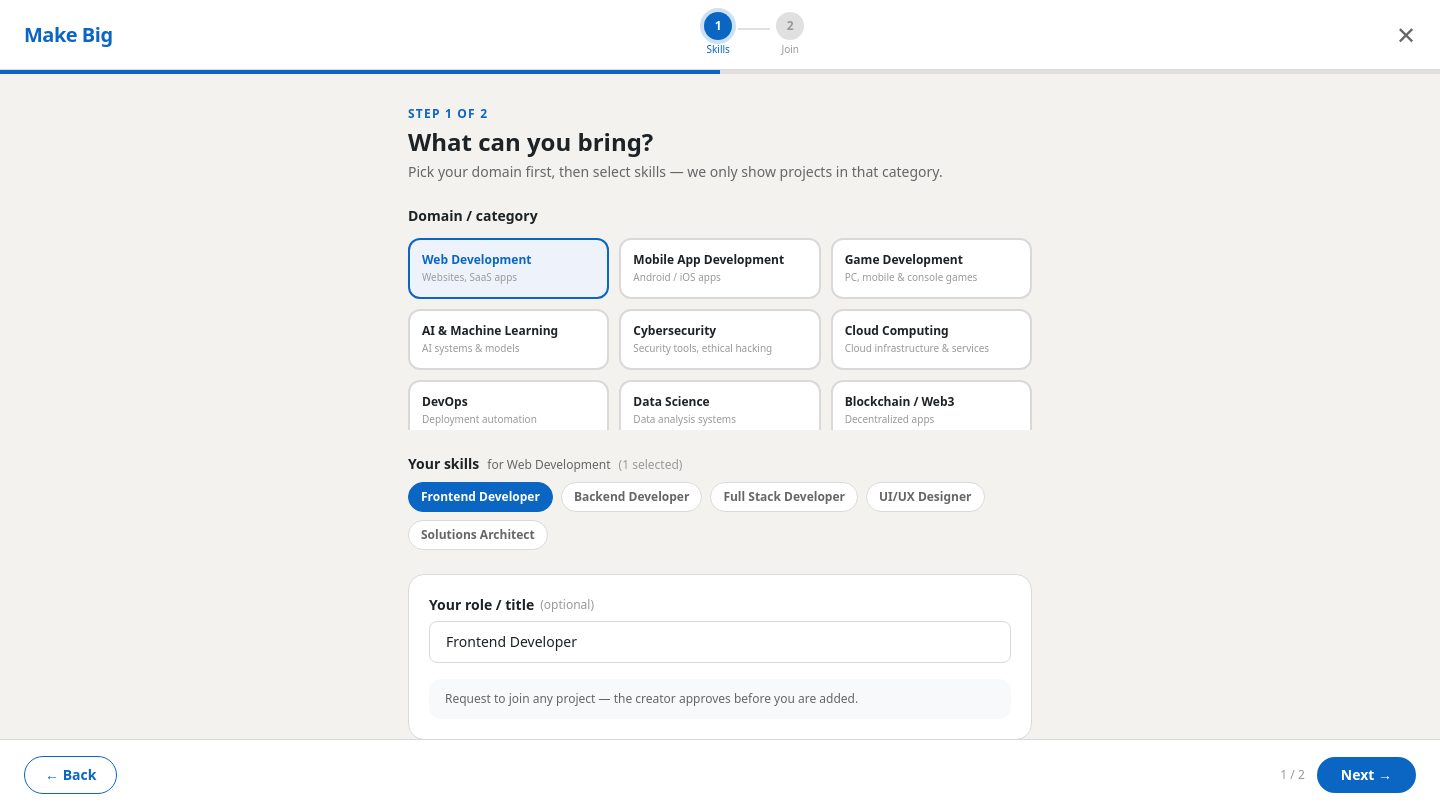
Scenario: ProjectWizardNew › renders join flow step 1 and step 2
This screenshot has width=1440, height=810.
Expected: the text "Step 1 of 2" is shown, [408,105,488,122]
Expected: the heading "What can you bring?" is shown, [408,125,653,158]
Step 1. Click the button "Next →" → (1366, 775), box [1317,757,1416,793]
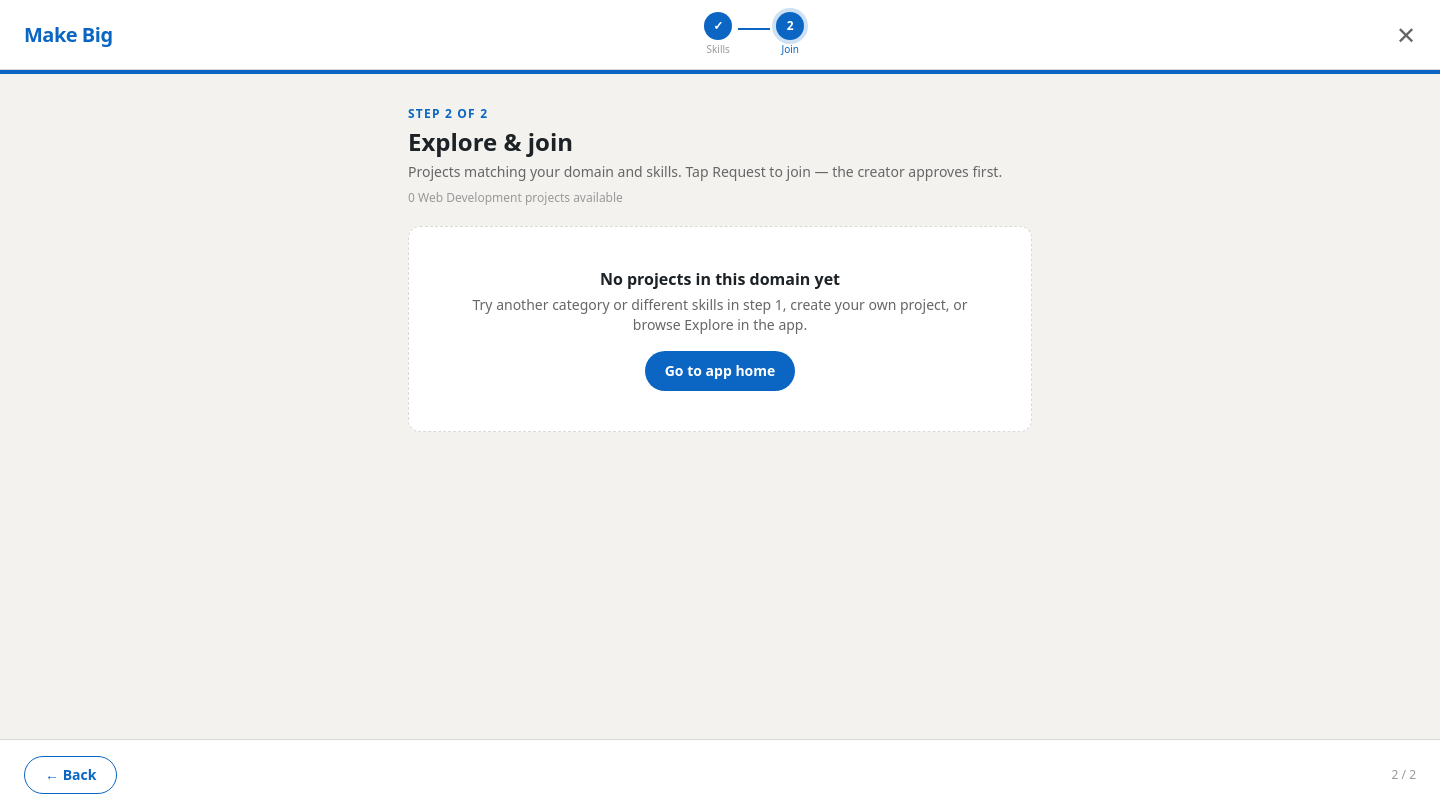
Expected: the text "Step 2 of 2" is shown, [408,105,488,122]
Expected: the heading "Explore & join" is shown, [408,125,573,158]
